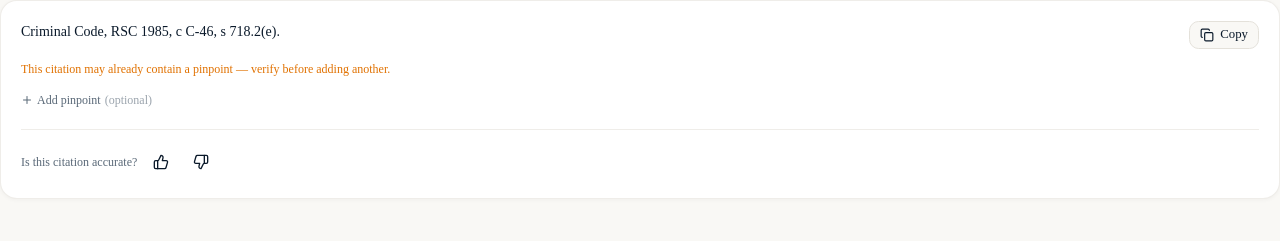
Scenario: CitationCard — period concatenation logic › removes trailing whitespace before period
Click the button "Add pinpoint (optional)": (86, 100) top-left (21, 92), bottom-right (152, 108)
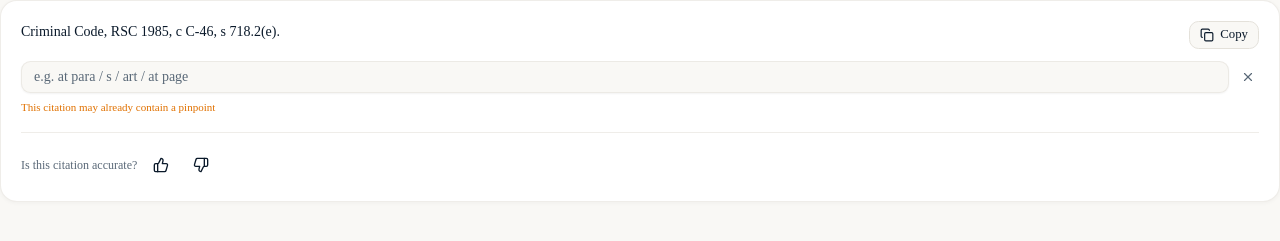
In the field named "pinpoint reference": (625, 77) top-left (21, 61), bottom-right (1229, 93), type "s 7"
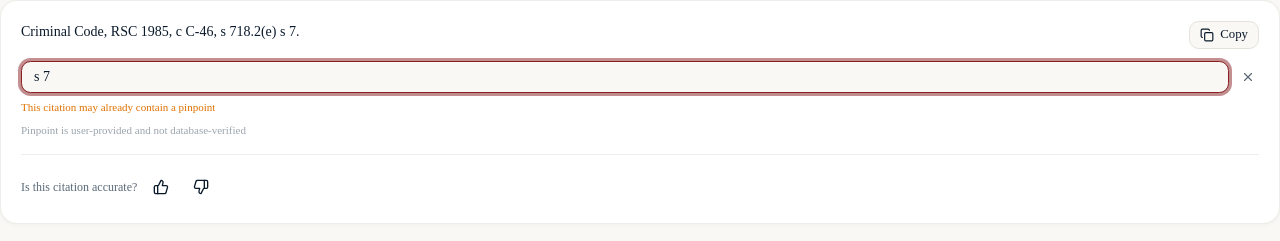
Now the text "Criminal Code, RSC 1985, c C-46, s 718.2(e) s 7." is shown, box top-left (21, 24), bottom-right (299, 39)
